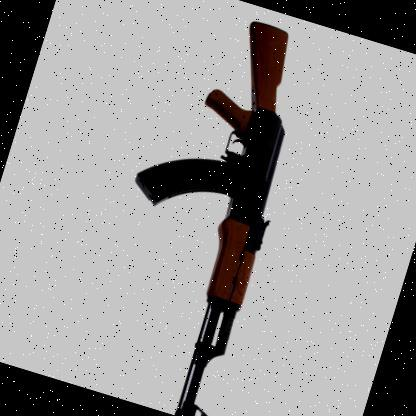rifle: (56, 0, 349, 416)
